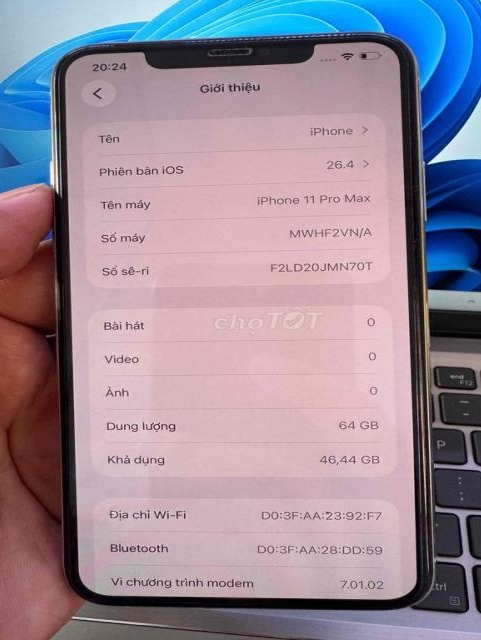scratch: (70, 32, 396, 44)
